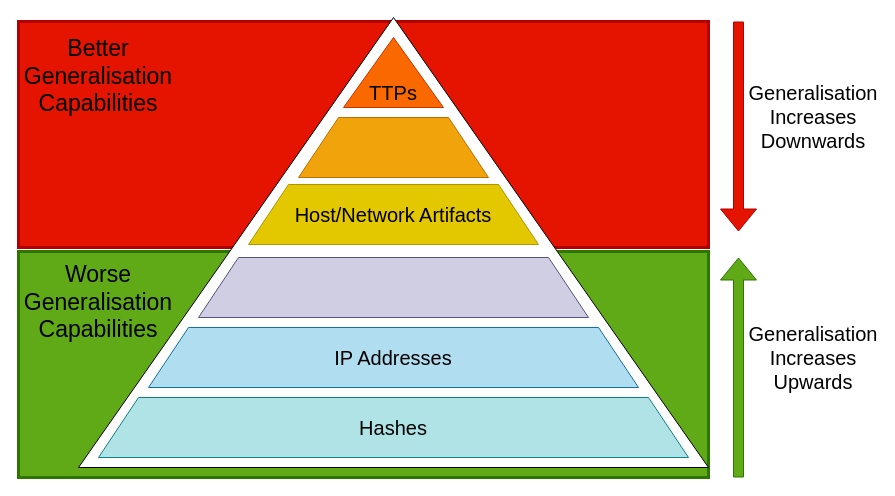
Image size: 895x496. Some labels were removed from this diagram. Here are the shapes that lost their labels. From the top down, the centre of each, then its label:
At [393,147]: "Tools".
At [393,287]: "Domain Names".
